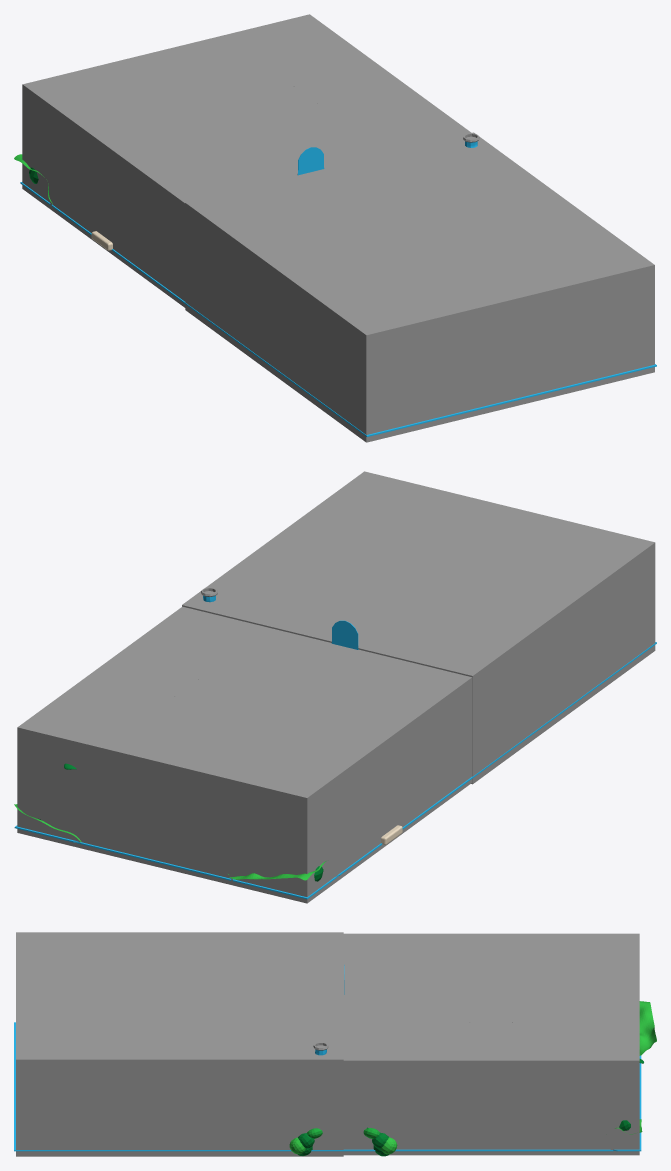
The model's file is SceneRecuperation.gltf.
3 renders of one model, top to bottom at view 1: azimuth 30°, elevation 25°; view 2: azimuth 150°, elevation 25°; view 3: azimuth 270°, elevation 25°, orthographic. The views are drawn at different scales.
Visible parts, largest first — view 1: room2, room1, Polygone; view 2: room1, room2, Polygone, porte; view 3: room2, room1, Polygone, Plan.
Part boxes in pixels (x1=…): room2: x1=185, y1=132, x2=654, y2=442; room1: x1=22, y1=14, x2=471, y2=307; Polygone: x1=20, y1=182, x2=656, y2=436; room1: x1=17, y1=606, x2=472, y2=903; room2: x1=182, y1=471, x2=655, y2=784; Polygone: x1=14, y1=642, x2=656, y2=899; porte: x1=331, y1=620, x2=358, y2=649; room2: x1=16, y1=932, x2=343, y2=1156; room1: x1=343, y1=933, x2=639, y2=1155; Polygone: x1=14, y1=1022, x2=641, y2=1151; Plan: x1=639, y1=1001, x2=656, y2=1055.
Bounding box in the file's own units: 10.14 × 4.61 × 20.78.
